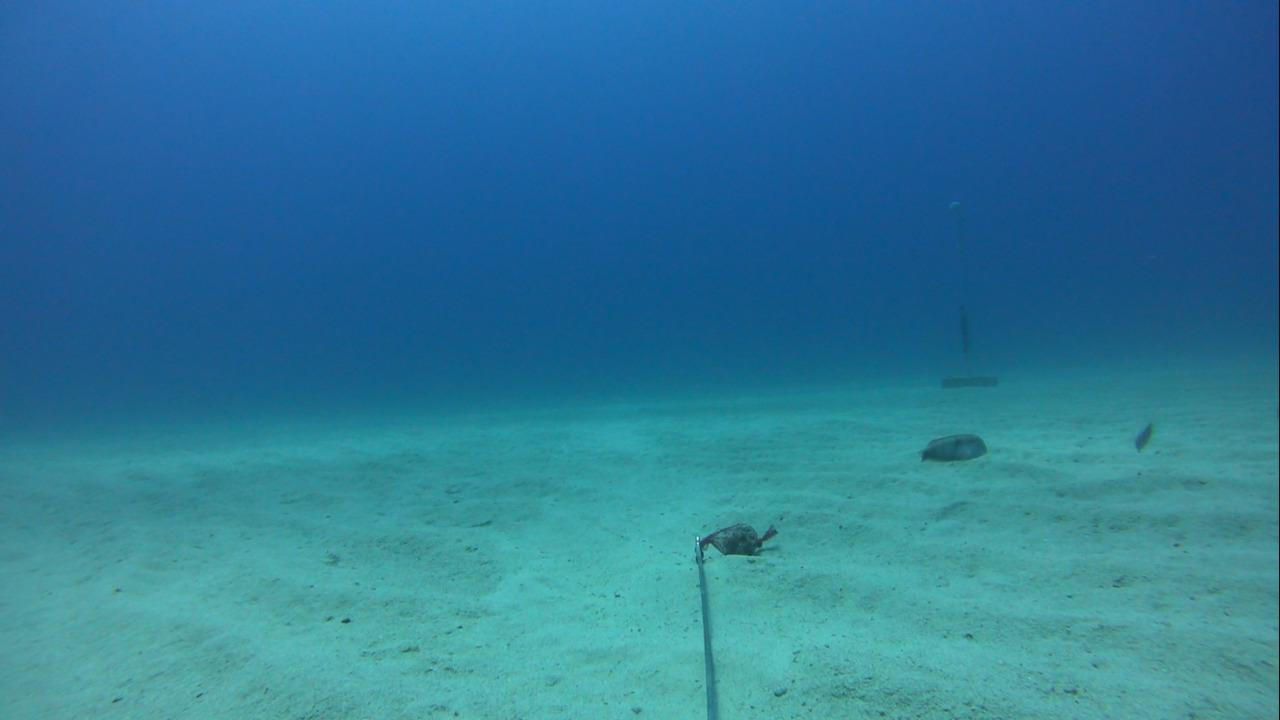raor: (908, 425, 993, 467), (1125, 408, 1163, 459)
